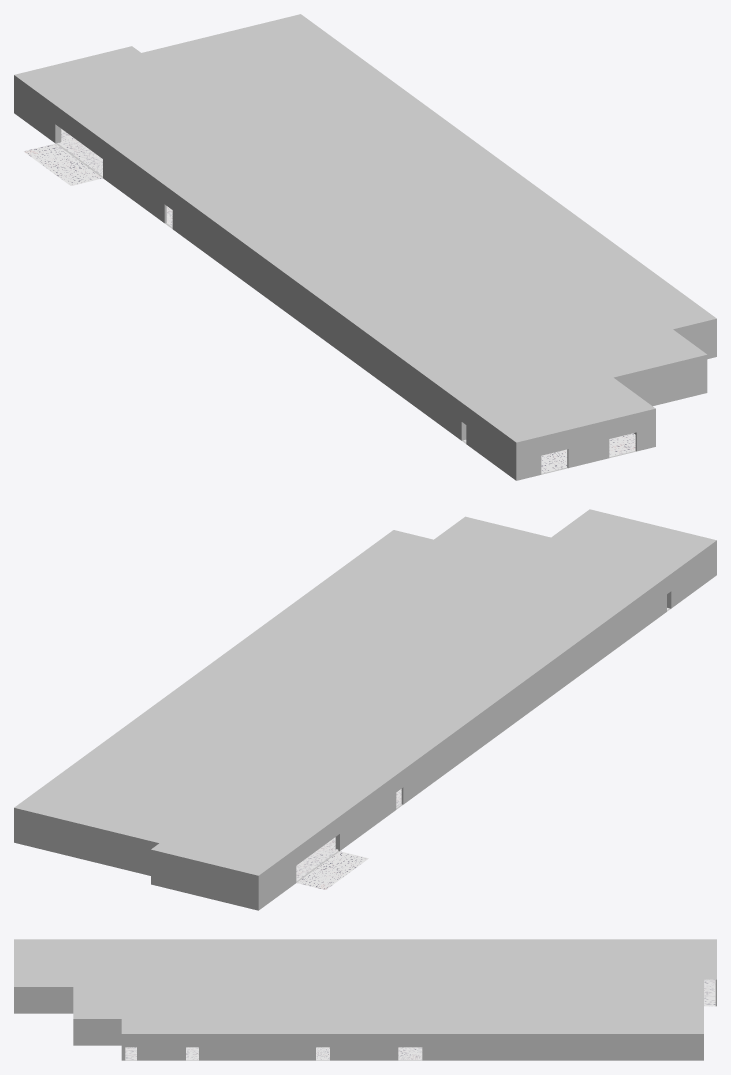
Rendered from factory.dae.
3 views of the same model, one above another, from view 1: azimuth 30°, elevation 25°; view 2: azimuth 150°, elevation 25°; view 3: azimuth 270°, elevation 25° (orthographic). The views are drawn at different scales.
Parts seen in each view (by area): view 1: Ceiling, Wall, Floor; view 2: Ceiling, Wall, Floor; view 3: Ceiling, Wall, Floor.
Part boxes in pixels (bbox=[...]): Ceiling: bbox=[17, 15, 713, 441]; Wall: bbox=[14, 14, 716, 480]; Floor: bbox=[24, 129, 635, 473]; Ceiling: bbox=[17, 510, 713, 874]; Wall: bbox=[14, 509, 716, 910]; Floor: bbox=[296, 608, 668, 889]; Ceiling: bbox=[15, 940, 715, 1033]; Wall: bbox=[14, 939, 716, 1060]; Floor: bbox=[125, 979, 715, 1059].
Bounding box in the file's own units: 33.85 × 95.14 × 4.
